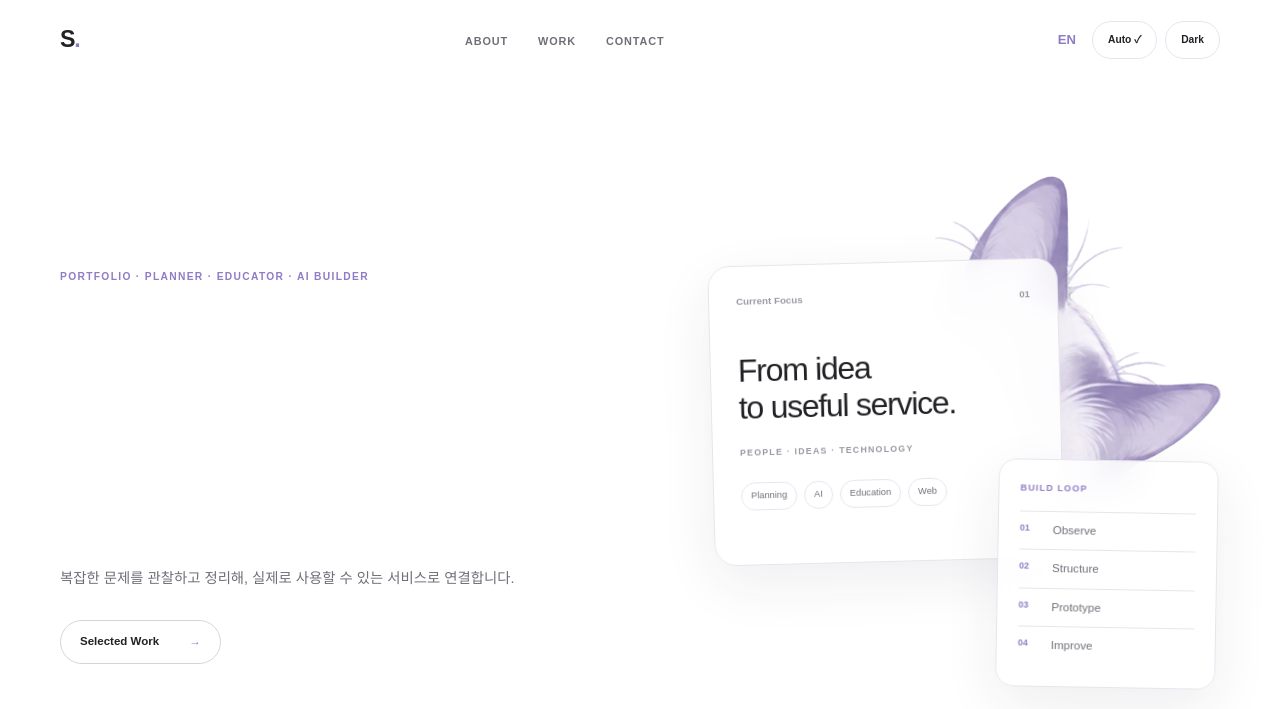
Test: HomePage › 언어를 바꾸면 홈 문구가 영어로 바뀐다
Click the button with aria-label "Switch to English" at (1067, 40), box [1050, 21, 1084, 59]
(page scrolled)
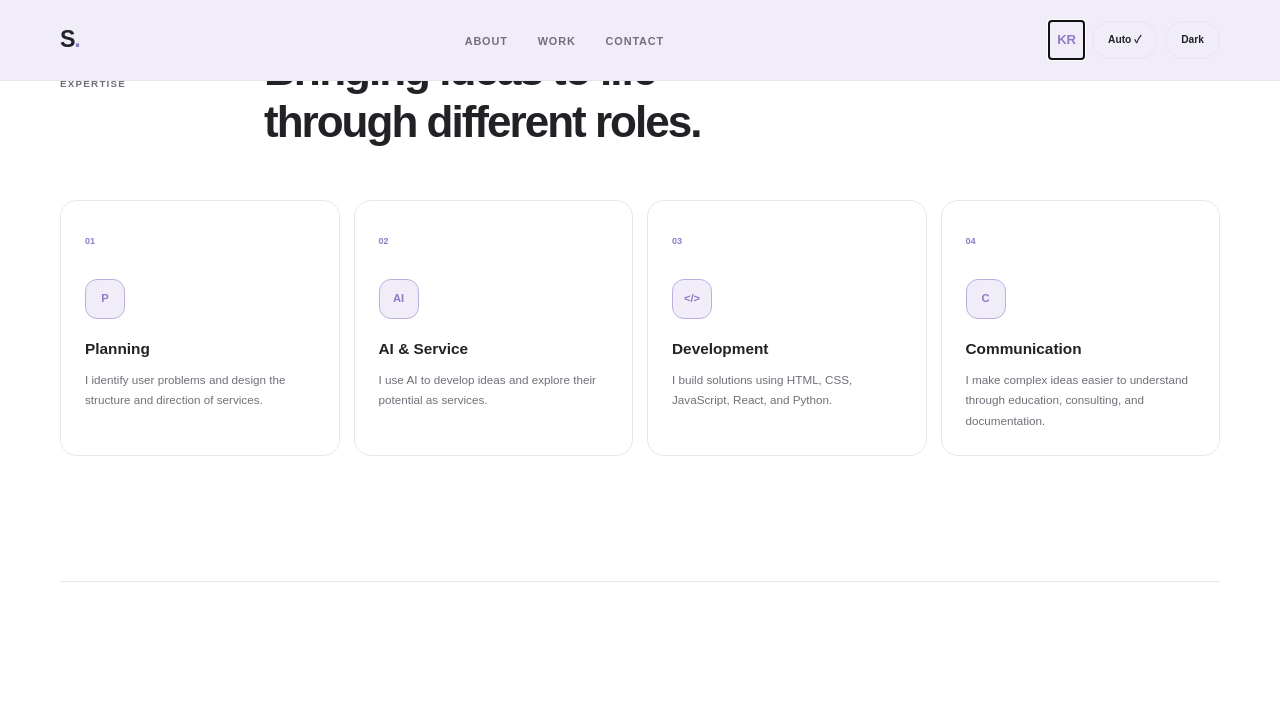
Result: the text "I make complex ideas easier to understand through education, consulting, and documentation." is shown at [966, 373, 1188, 427]
